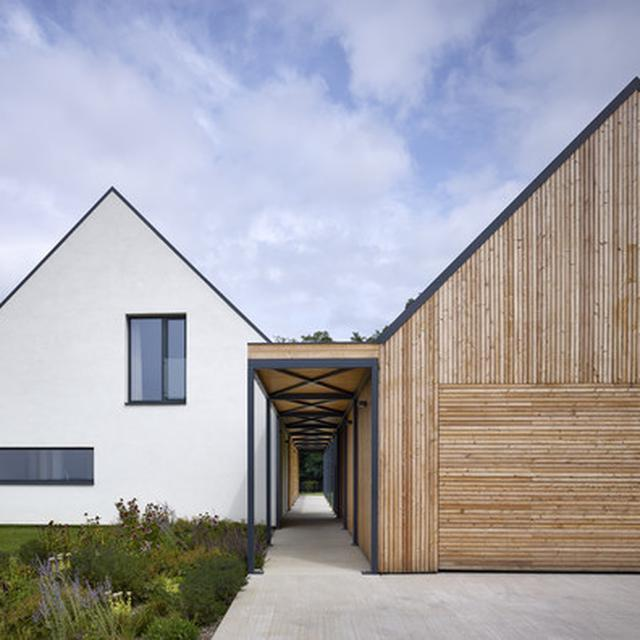building: (325, 68, 640, 574), (0, 181, 297, 533)
